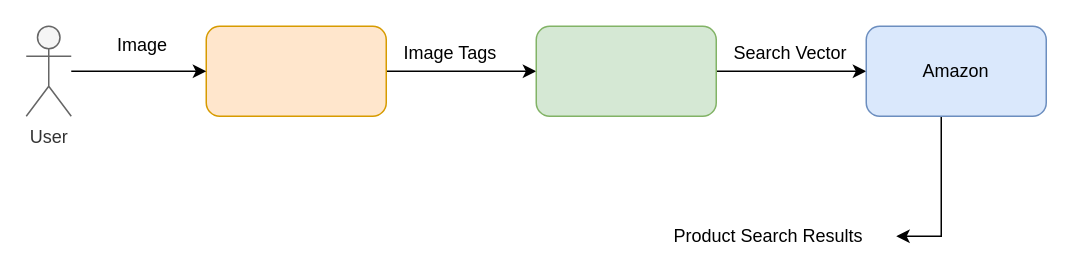
The diagram is 1073 pixels wide and 278 high, and some of its shapes have lost their labels. The centre of each missing label's shape, as x and y in pixels:
"Algorithm" goes at pixel 625 70.
"Amazon Rekognition/Google Cloud Vision" goes at pixel 295 70.
